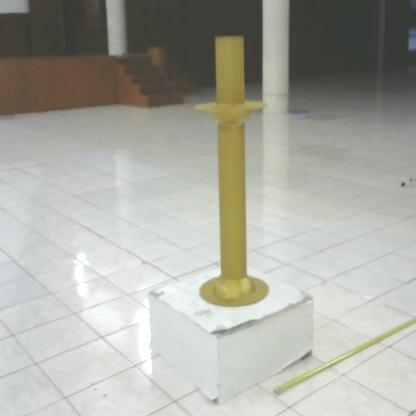pole: (191, 30, 277, 316)
